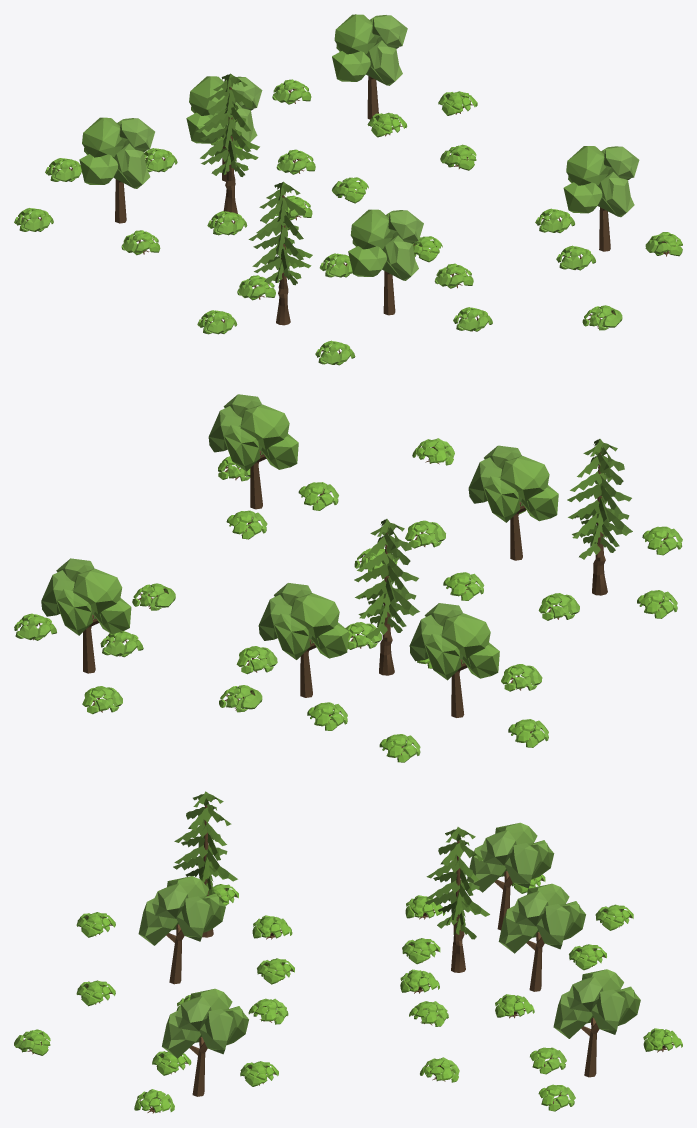
Rendered from TreeGroup 0.fbx.
The picture shows the model from 3 angles, top to bottom: view 1: azimuth 30°, elevation 25°; view 2: azimuth 150°, elevation 25°; view 3: azimuth 270°, elevation 25°; orthographic projection. The views are drawn at different scales.
Visible parts, largest first — view 1: TreeGroup__0__mesh_mesh; view 2: TreeGroup__0__mesh_mesh; view 3: TreeGroup__0__mesh_mesh.
Boxes of the visible parts, left/top/right/bottom form: TreeGroup__0__mesh_mesh: left=14, top=14, right=682, bottom=365; TreeGroup__0__mesh_mesh: left=14, top=394, right=682, bottom=762; TreeGroup__0__mesh_mesh: left=14, top=791, right=682, bottom=1113.
Size of the model in its own units: 4373 by 1244 by 5197.
